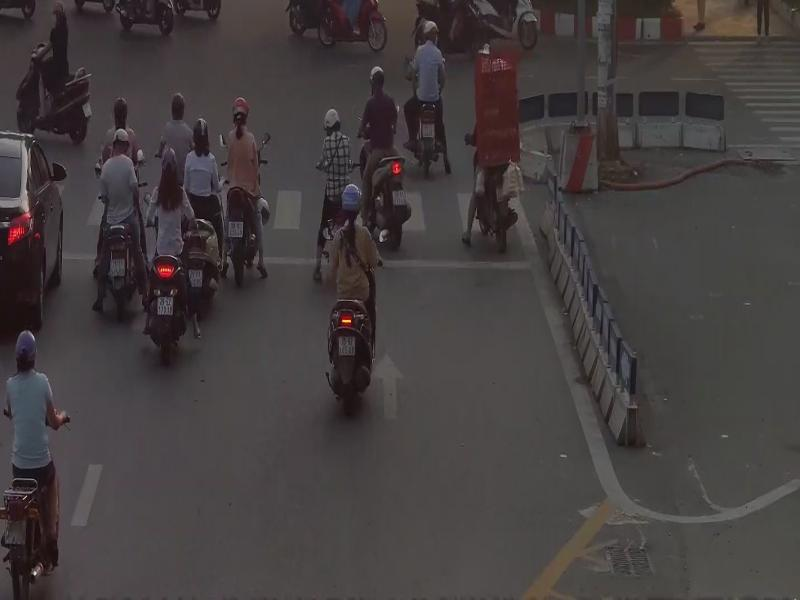helmet: (16, 328, 39, 361), (341, 183, 364, 215), (111, 128, 130, 151), (324, 107, 342, 131), (233, 96, 249, 122), (162, 147, 176, 173), (112, 97, 128, 119), (194, 118, 209, 139), (370, 66, 383, 87), (258, 198, 270, 219), (425, 20, 438, 37), (52, 1, 64, 18), (172, 93, 183, 111)
license_plate: (339, 336, 356, 355), (158, 298, 174, 316), (228, 220, 244, 238), (188, 269, 202, 287), (110, 258, 124, 274), (394, 190, 404, 206), (423, 123, 434, 136), (82, 103, 92, 117)
motorcyclist: (0, 321, 71, 597), (326, 183, 382, 411), (15, 1, 94, 148), (220, 95, 272, 285), (149, 146, 196, 356), (360, 66, 413, 250), (101, 128, 144, 325), (313, 107, 356, 282), (410, 23, 450, 173)
